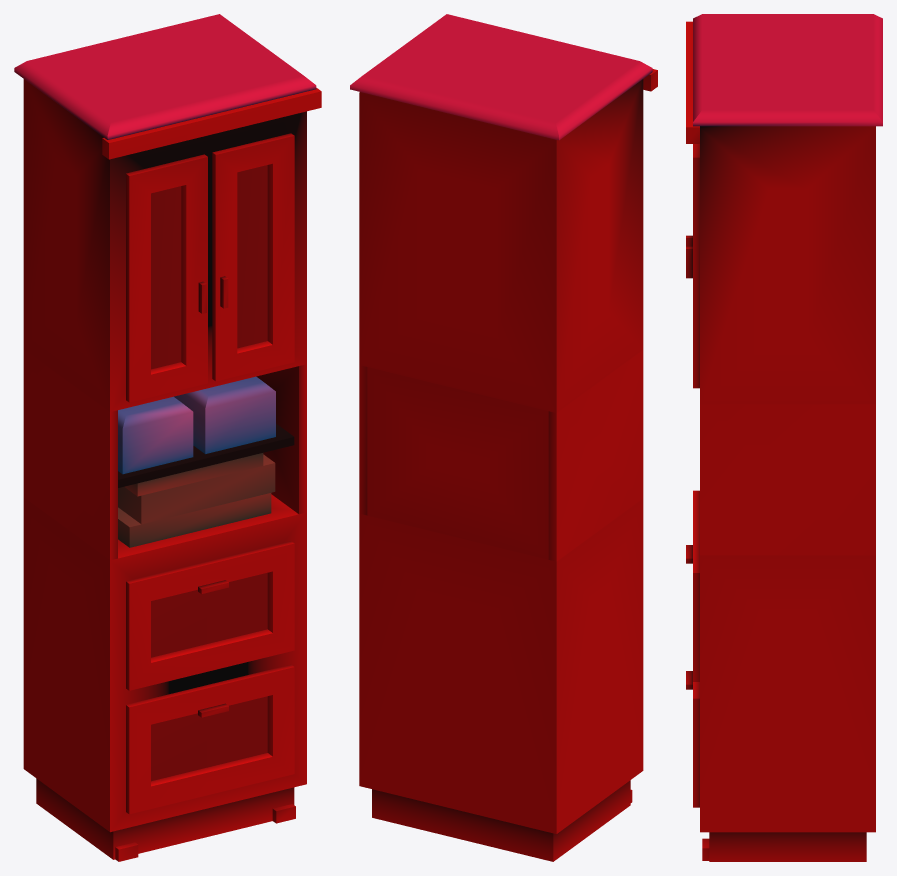
Rendered from CI_Bathroom_LinenCabinet_Tall.glb.
3 views of the same model, side by side, from view 1: azimuth 30°, elevation 25°; view 2: azimuth 150°, elevation 25°; view 3: azimuth 270°, elevation 25° (orthographic).
Visible parts, largest first — view 1: CI_Bathroom_LinenCabinet_Tall; view 2: CI_Bathroom_LinenCabinet_Tall; view 3: CI_Bathroom_LinenCabinet_Tall.
Boxes of the visible parts, x1,y1,x2,y2 form: CI_Bathroom_LinenCabinet_Tall: [14, 14, 321, 861]; CI_Bathroom_LinenCabinet_Tall: [350, 14, 657, 861]; CI_Bathroom_LinenCabinet_Tall: [686, 14, 882, 861].
Bounding box in the file's own units: 0.54 × 1.8 × 0.425.
